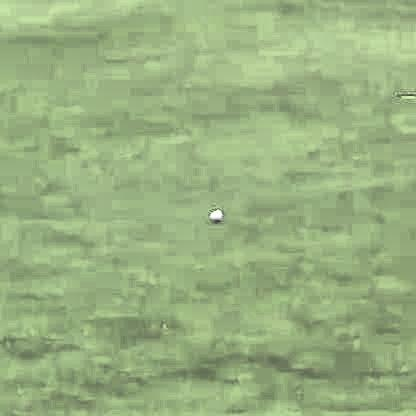golfball: (207, 207, 222, 222)
